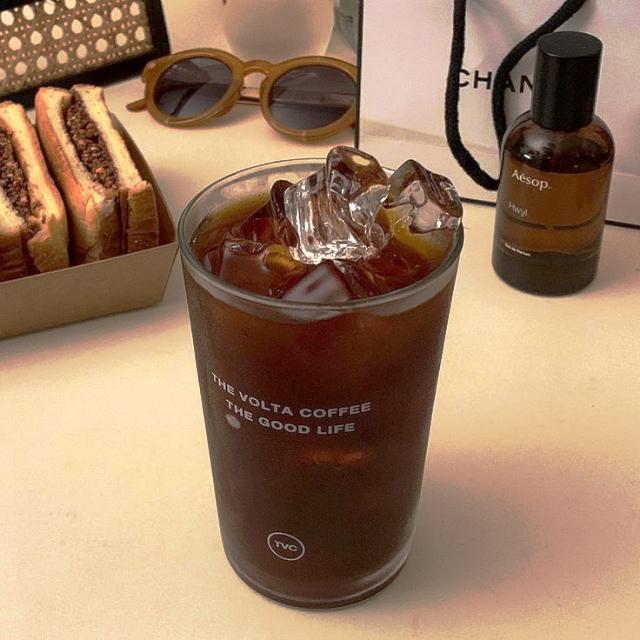drink: (181, 154, 466, 592)
